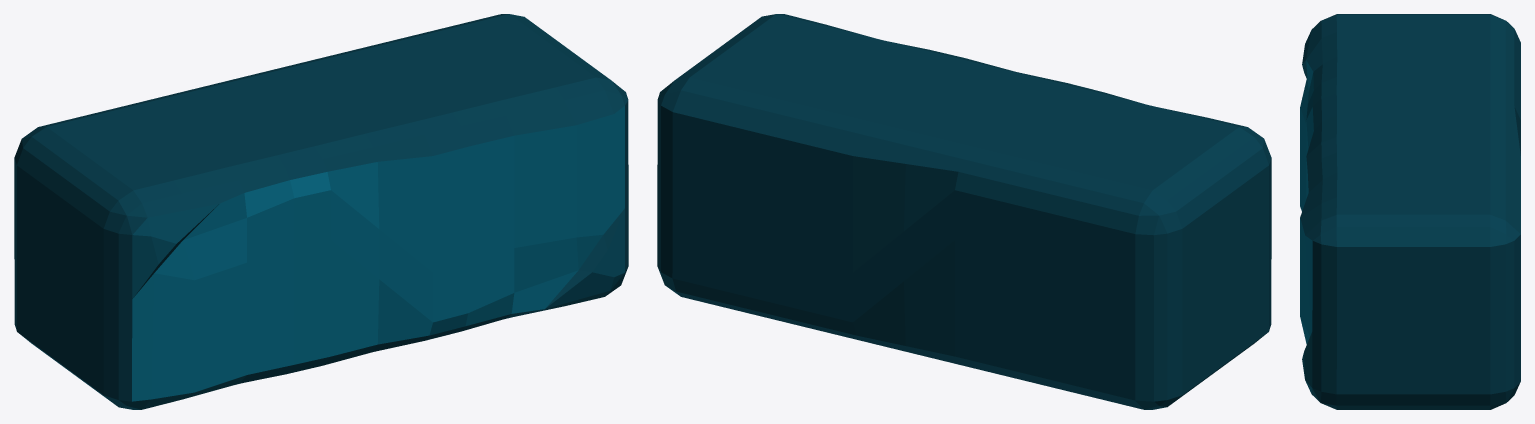
The model's file is bigbluebutton.fbx.
3 views of the same model, side by side, from view 1: azimuth 30°, elevation 25°; view 2: azimuth 150°, elevation 25°; view 3: azimuth 270°, elevation 25° (orthographic). The views are drawn at different scales.
Visible parts, largest first — view 1: pCube3; view 2: pCube3; view 3: pCube3.
Boxes of the visible parts, x1,y1,x2,y2 form: pCube3: (14,14,628,409); pCube3: (657,14,1271,409); pCube3: (1300,14,1520,409).
Bounding box in the file's own units: 2.49 × 1 × 1.03.
